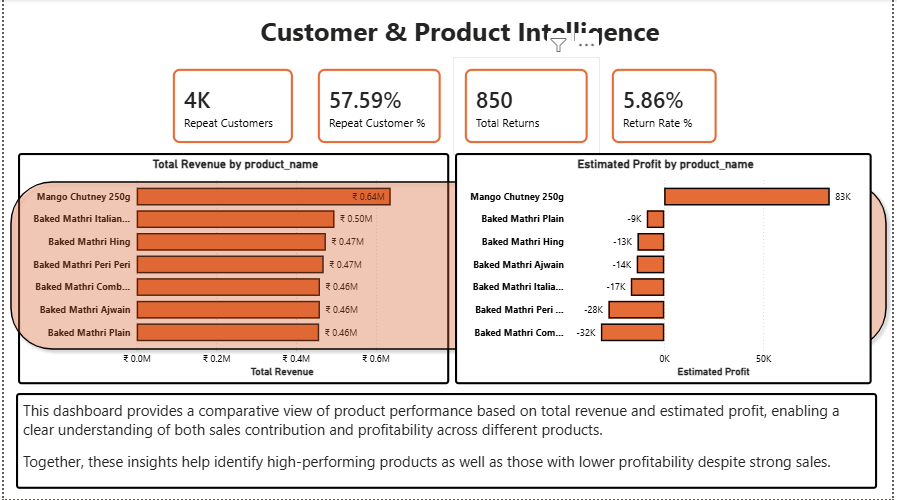

What the dashboard file says about the page in this screenshot:
{"tool":"powerbi","page":{"name":"Customer & Product Intelligence","canvas":[1280,720],"ordinal":3},"visuals":[{"type":"textbox","box":[364.3,15.8,620.6,61.9],"z":0},{"type":"cardVisual","fields":{"Data":["Measures (2).Repeat Customers"]},"box":[226.1,83.5,207.4,141.1],"z":1000},{"type":"cardVisual","fields":{"Data":["Measures (2).Repeat Customer %"]},"box":[434.9,83.5,211.7,141.1],"z":2000},{"type":"cardVisual","fields":{"Data":["Measures (2).Total Returns"]},"box":[646.6,83.5,211.7,141.1],"z":3000},{"type":"cardVisual","fields":{"Data":["Measures (2).Return Rate %"]},"box":[858.2,83.5,185.8,141.1],"z":4000},{"type":"clusteredBarChart","fields":{"Y":["Measures (2).Total Revenue"],"Category":["dim_products.product_name"]},"box":[20.2,221.8,620.6,332.6],"z":5000},{"type":"shape","box":[0,253.4,1280.2,260.6],"z":5500},{"type":"clusteredBarChart","fields":{"Category":["dim_products.product_name"],"Y":["Measures (2).Estimated Profit"]},"box":[649.4,221.8,600.5,332.6],"z":6000},{"type":"textbox","box":[17.3,567.4,1239.8,138.2],"z":8000}]}

Visuals, with their boxes in screenshot pixels (x1, y1, x2, y2), scaled from the page's 1280x720 canvas onto the 897x500 screenshot:
textbox: 255, 11, 690, 54
cardVisual - Measures (2).Repeat Customers: 158, 58, 304, 156
cardVisual - Measures (2).Repeat Customer %: 305, 58, 453, 156
cardVisual - Measures (2).Total Returns: 453, 58, 601, 156
cardVisual - Measures (2).Return Rate %: 601, 58, 732, 156
clusteredBarChart - Measures (2).Total Revenue x dim_products.product_name: 14, 154, 449, 385
shape: 0, 176, 896, 357
clusteredBarChart - dim_products.product_name x Measures (2).Estimated Profit: 455, 154, 876, 385
textbox: 12, 394, 881, 490
